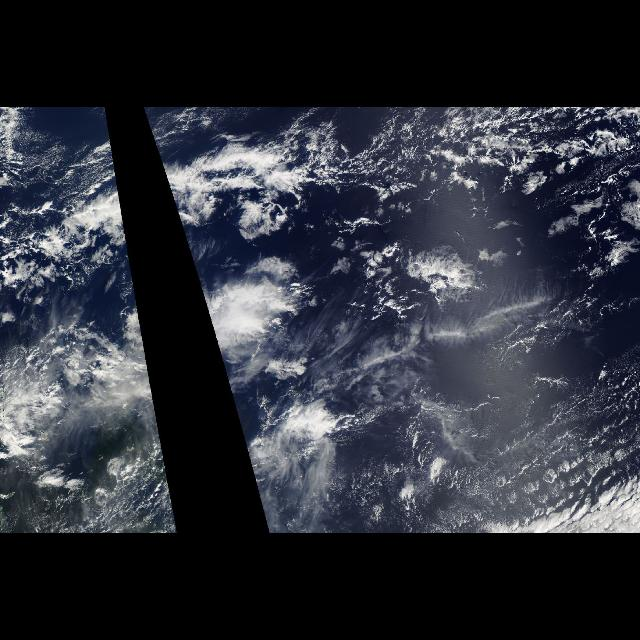Fish: (158, 154, 326, 242), (60, 154, 128, 242)
Gravel: (434, 111, 640, 229)
Sugar: (476, 409, 640, 533)
